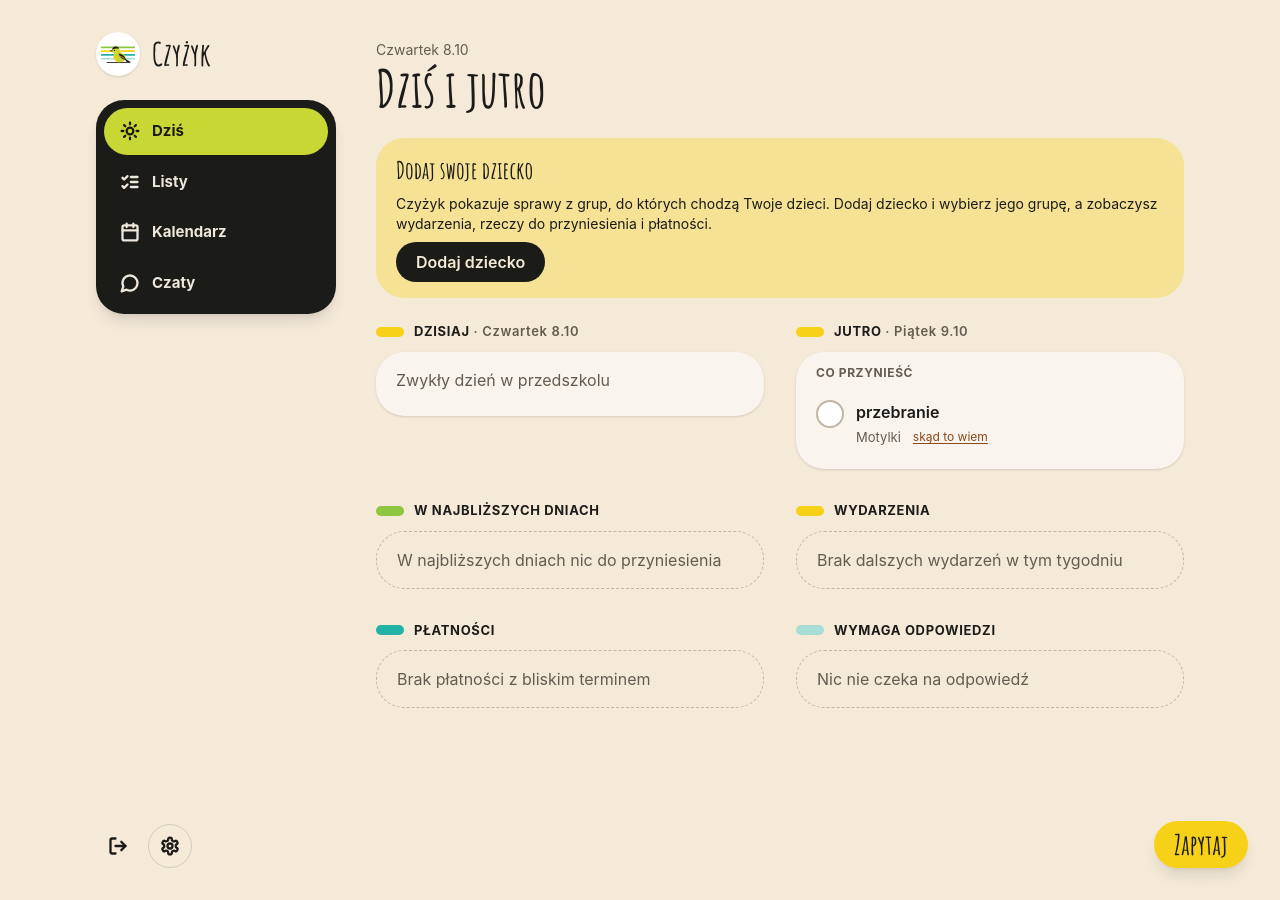
Test: Checklista rzeczy do przyniesienia › stuknięcie wywołuje mark_packed, przekreśla rzecz i podpisuje „spakowane przez Ciebie”
Click the checkbox named "przebranie" at coordinates (830, 414), box [816,400,844,428]
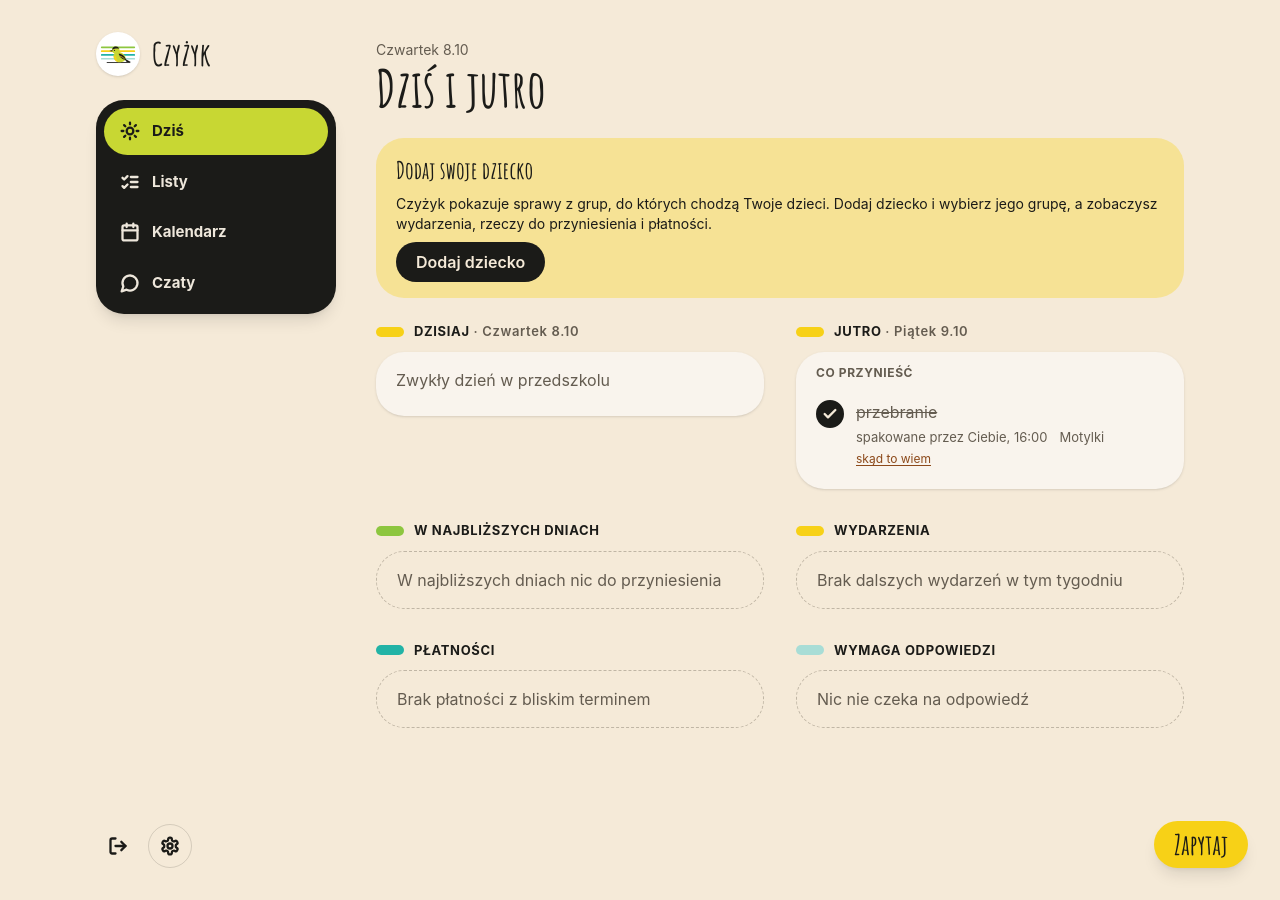
Result: the text "spakowane przez Ciebie, 16:00" is shown at [856,428,1047,447]
